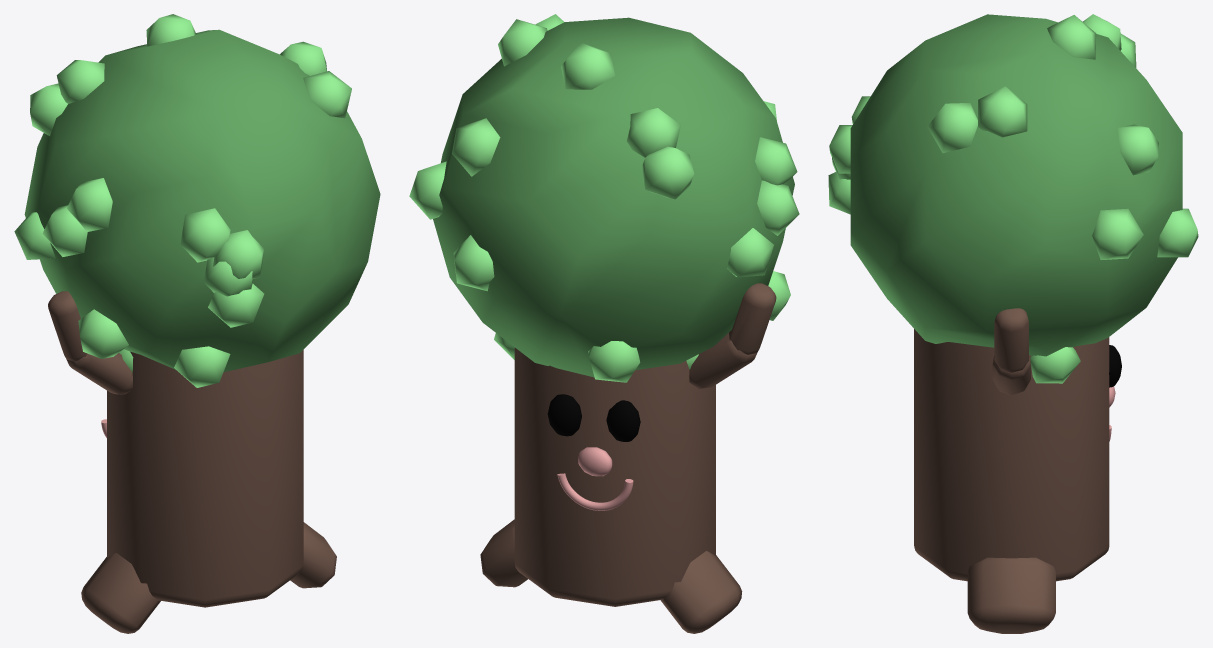
Rendered from lemontree.gltf.
The picture shows the model from 3 angles, left to right: view 1: azimuth 30°, elevation 25°; view 2: azimuth 150°, elevation 25°; view 3: azimuth 270°, elevation 25°; orthographic projection. The views are drawn at different scales.
Parts seen in each view (by area): view 1: tree-green, tree-brown, tree-lightgreen; view 2: tree-green, tree-brown, tree-lightgreen, tree-black, tree-pink; view 3: tree-green, tree-brown, tree-lightgreen.
Boxes of the visible parts, x1,y1,x2,y2 form: tree-green: (24,29,380,371); tree-brown: (48,291,336,633); tree-lightgreen: (14,14,351,387); tree-green: (433,17,794,377); tree-brown: (480,283,776,633); tree-lightgreen: (409,14,799,382); tree-black: (547,394,640,441); tree-pink: (557,447,633,510); tree-green: (850,14,1182,356); tree-brown: (914,308,1109,633); tree-lightgreen: (828,14,1198,383).
Size of the model in its own units: 2.74 by 4.68 by 2.78.
